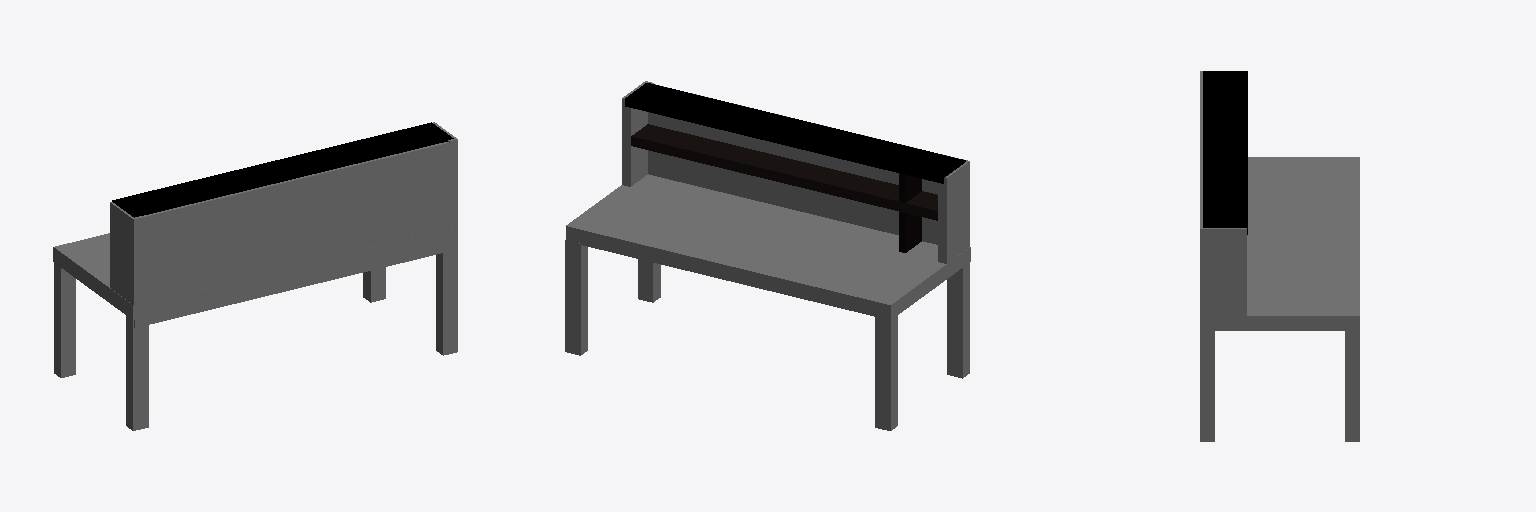
Rendered from desk.obj.
3 renders of one model, left to right at view 1: azimuth 30°, elevation 25°; view 2: azimuth 150°, elevation 25°; view 3: azimuth 270°, elevation 25°, orthographic.
Parts seen in each view (by area): view 1: pCube4, pCube1, pCube7, pasted__pasted__pasted__pCube2 pasted__pasted__group pasted__gro, pasted__pasted__pCube2 pasted__group group1, pCube2, pCube3, pasted__pCube2 group; view 2: pCube1, pCube4, pCube7, pCube5, pCube3, pasted__pasted__pCube2 pasted__group group1, pasted__pCube2 group, pasted__pasted__pasted__pCube2 pasted__pasted__group pasted__gro, pasted__pCube3 group3, pCube6, pCube2; view 3: pCube1, pCube7, pasted__pCube3 group3, pCube2, pasted__pCube2 group.
Boxes of the visible parts, <box> form: pCube4: <box>134,141,456,327</box>; pCube1: <box>53,226,457,320</box>; pCube7: <box>112,122,453,217</box>; pasted__pasted__pasted__pCube2 pasted__pasted__group pasted__gro: <box>126,316,148,430</box>; pasted__pasted__pCube2 pasted__group group1: <box>54,263,75,377</box>; pCube2: <box>436,241,457,355</box>; pCube3: <box>110,202,141,304</box>; pasted__pCube2 group: <box>363,267,385,302</box>; pCube1: <box>566,174,970,319</box>; pCube4: <box>648,84,958,244</box>; pCube7: <box>625,83,965,183</box>; pCube5: <box>631,124,937,220</box>; pCube3: <box>938,159,969,263</box>; pasted__pasted__pCube2 pasted__group group1: <box>875,316,897,430</box>; pasted__pCube2 group: <box>565,240,587,355</box>; pasted__pasted__pasted__pCube2 pasted__pasted__group pasted__gro: <box>947,263,969,378</box>; pasted__pCube3 group3: <box>622,81,653,186</box>; pCube6: <box>899,173,921,252</box>; pCube2: <box>638,259,660,302</box>; pCube1: <box>1200,157,1359,330</box>; pCube7: <box>1203,71,1247,234</box>; pasted__pCube3 group3: <box>1200,225,1246,315</box>; pCube2: <box>1200,330,1214,441</box>; pasted__pCube2 group: <box>1345,330,1359,441</box>.
Size of the model in its own units: 7.27 by 4.55 by 3.09.